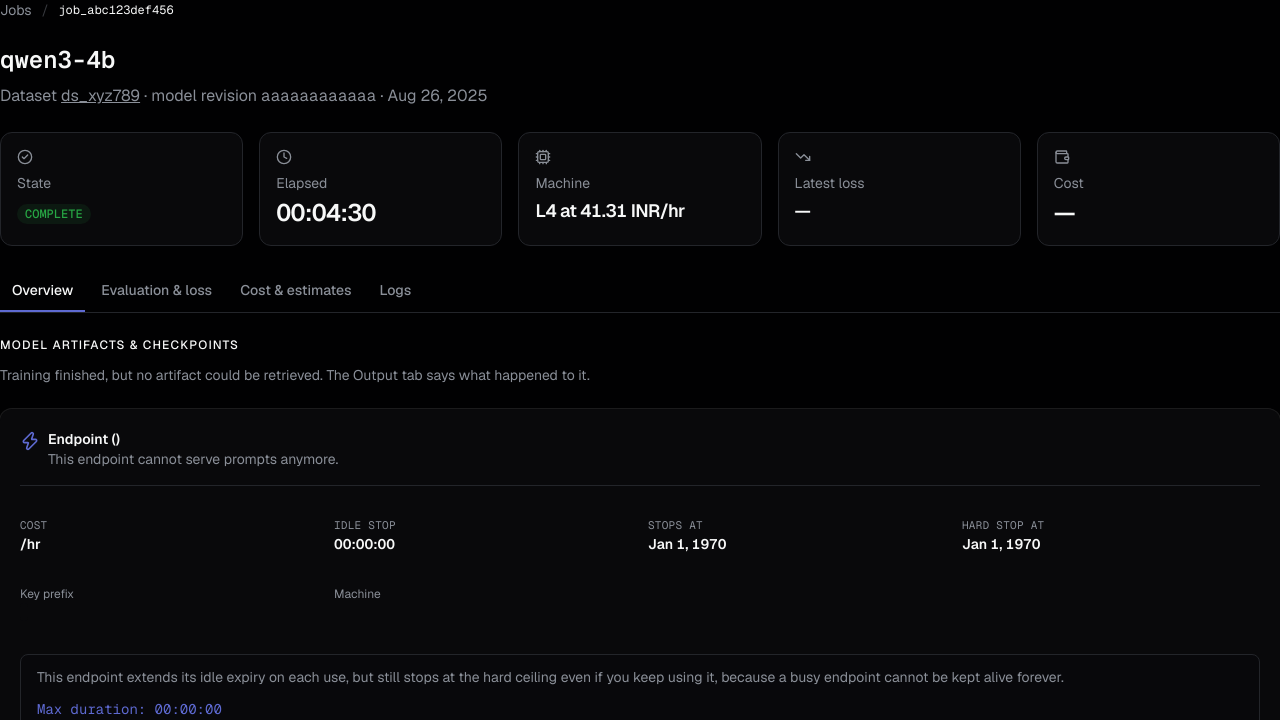
it: JobRecordView › surfaces a held-out loss that stopped improving, in plain language
Click the tab "Evaluation & loss".
click(157, 291)  # box [89,270,224,312]
(page scrolled)
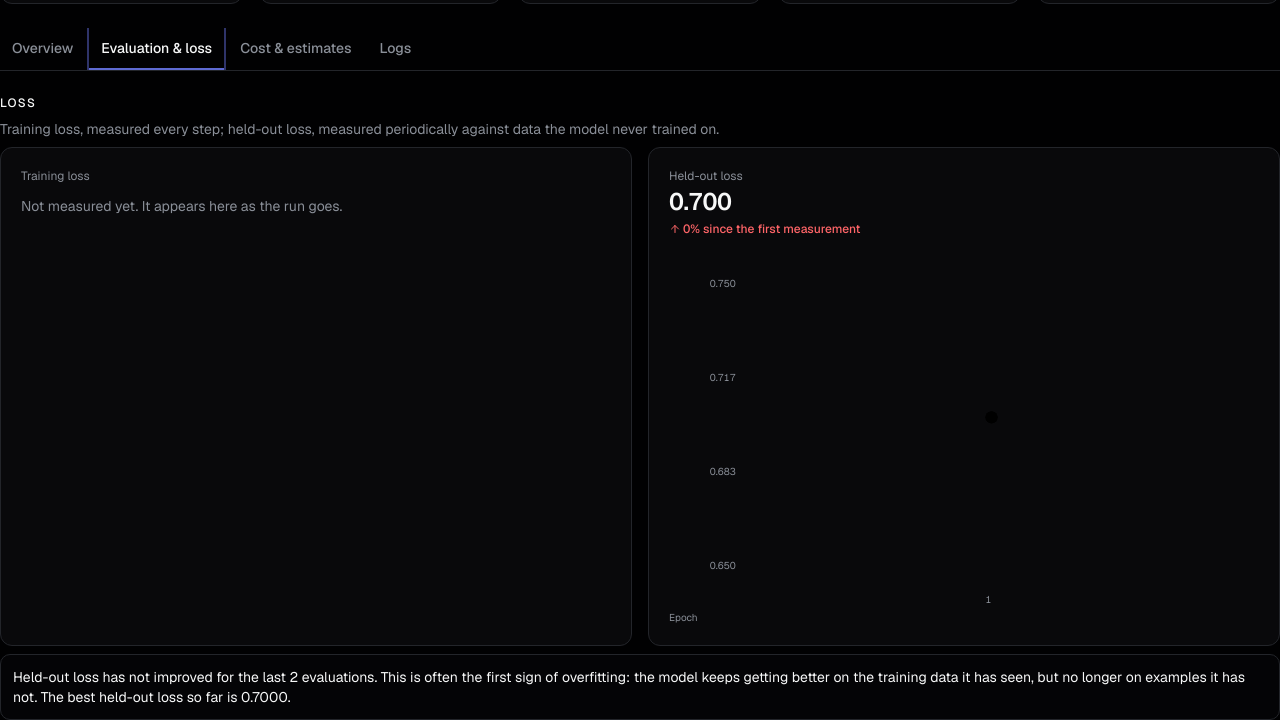
Expected: the text "Held-out loss has not improved" shows "overfitting", [13,668,1245,706]
